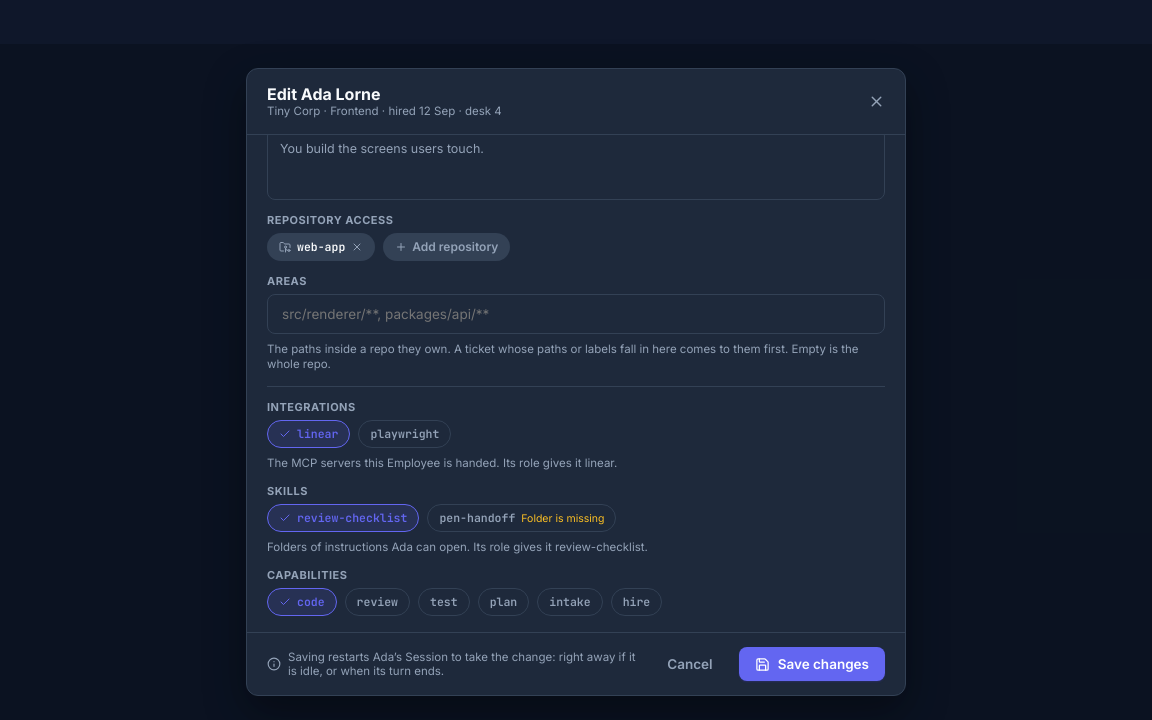
where a grant came from › follows the chips as the boss turns them on and off
The image size is (1152, 720).
(page scrolled)
Click the switch labelled "linear": point(309, 434) [267,420,350,448]
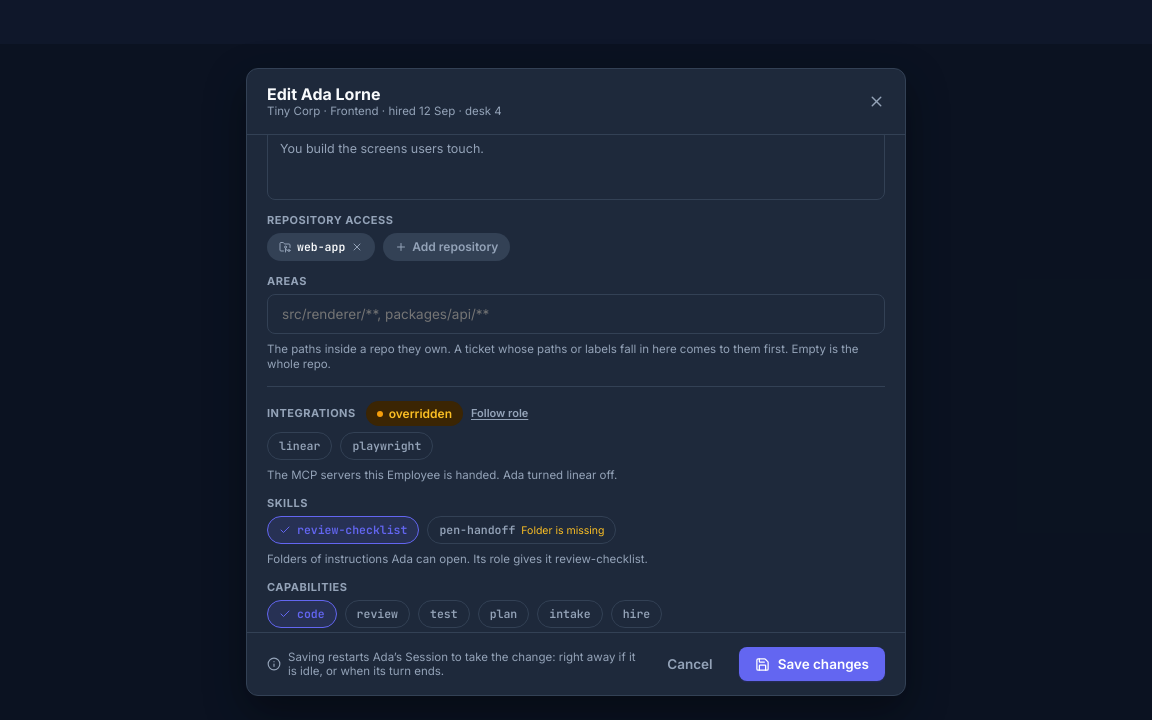
Expected: the text "The MCP servers this Employee is handed. Ada turned linear off." is shown, [267,468,617,482]
Click the switch labelled "playwright": point(387, 446) [340,432,433,460]
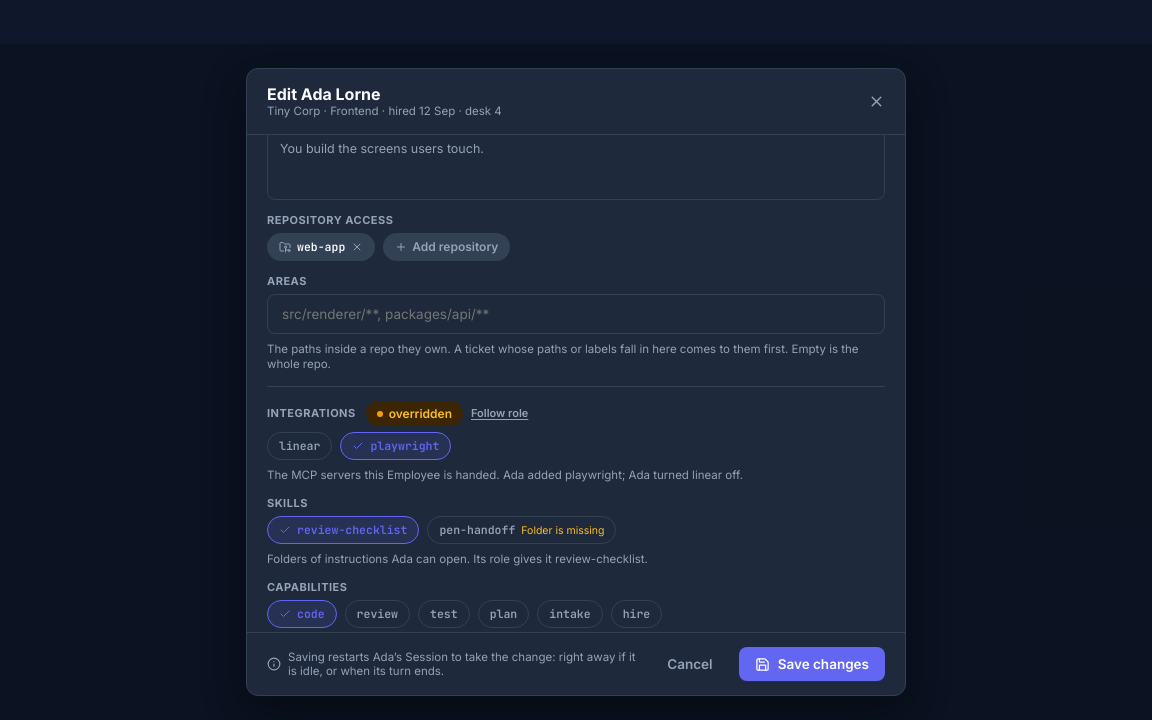
Expected: the text "The MCP servers this Employee is handed. Ada added playwright; Ada turned linear off." is shown, [267,468,743,482]
